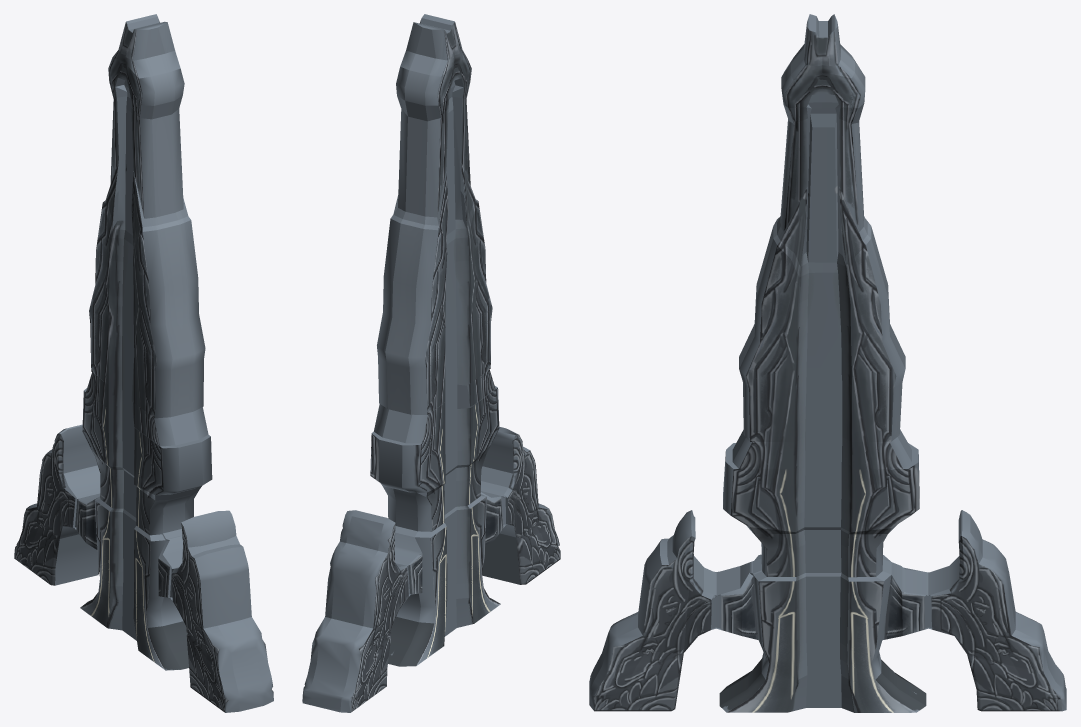
The model's file is BgMD_Symbol_003.fbx.
3 renders of one model, left to right at view 1: azimuth 30°, elevation 25°; view 2: azimuth 150°, elevation 25°; view 3: azimuth 270°, elevation 25°, orthographic. The views are drawn at different scales.
Visible parts, largest first — view 1: pCube3; view 2: pCube3; view 3: pCube3.
Boxes of the visible parts, x1,y1,x2,y2 form: pCube3: [14, 14, 273, 712]; pCube3: [302, 14, 560, 712]; pCube3: [589, 14, 1066, 712].
Size of the model in its own units: 152 by 1805 by 1153.
